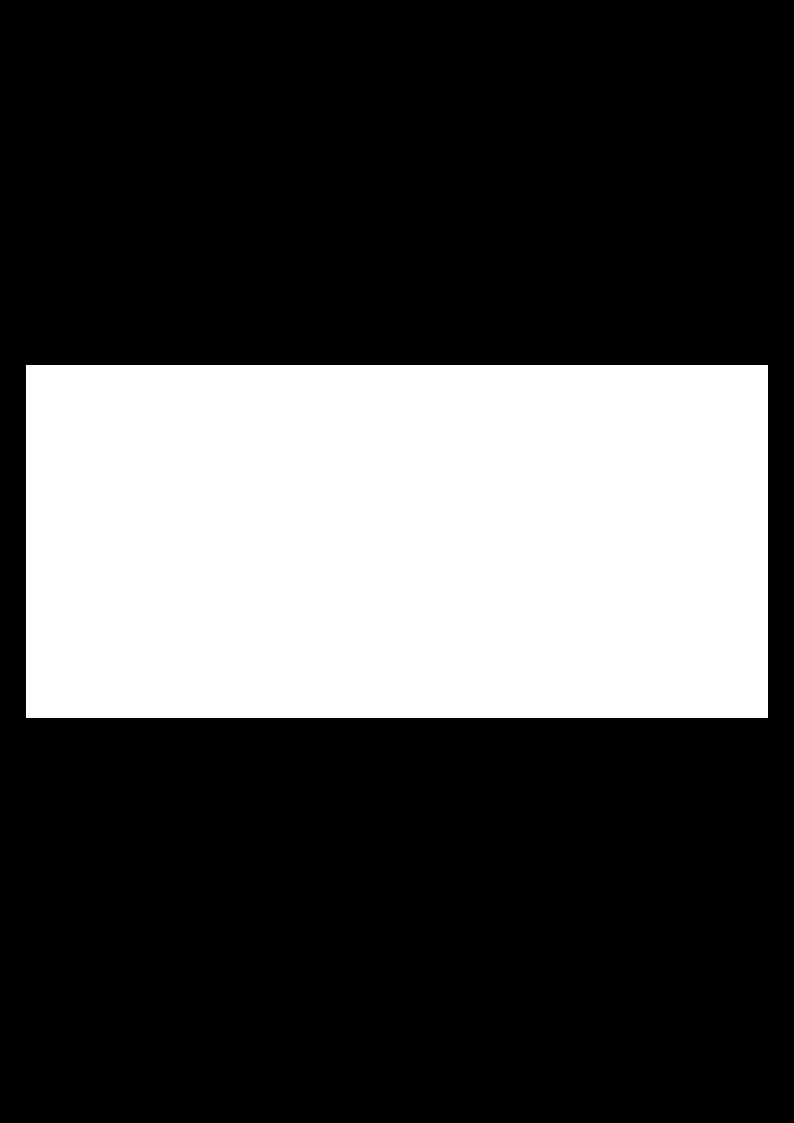table: (26, 365, 767, 717)
